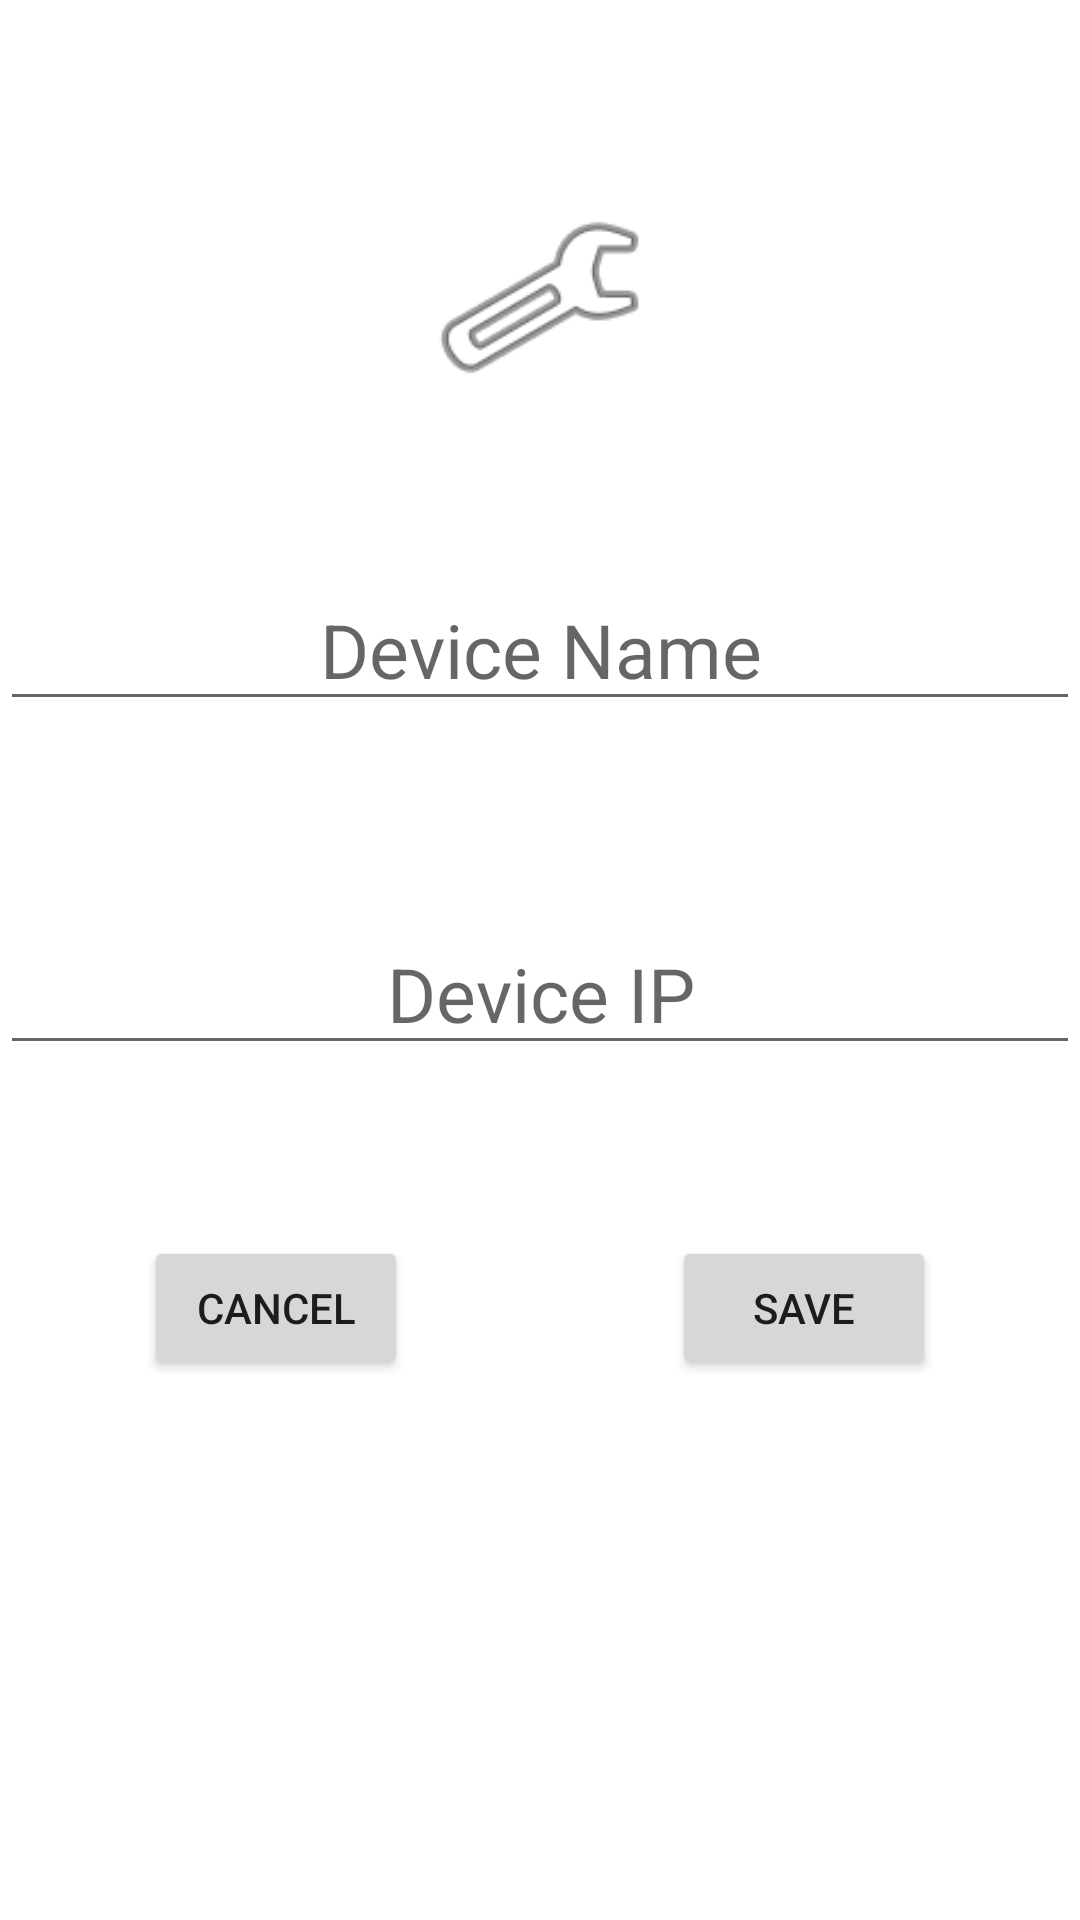

Named icons in this screenshot (1080 × 1920) and their bounding boxes, (x1, y1, x2, y2):
manage: (441, 222, 639, 373)
